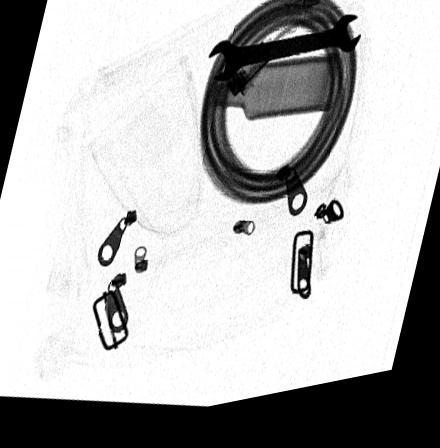Wrench: (207, 27, 365, 91)
